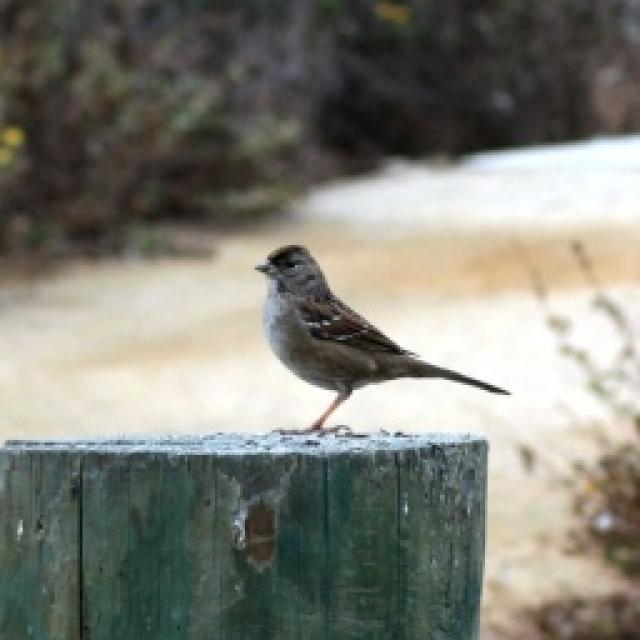sparrow: (248, 238, 512, 432)
